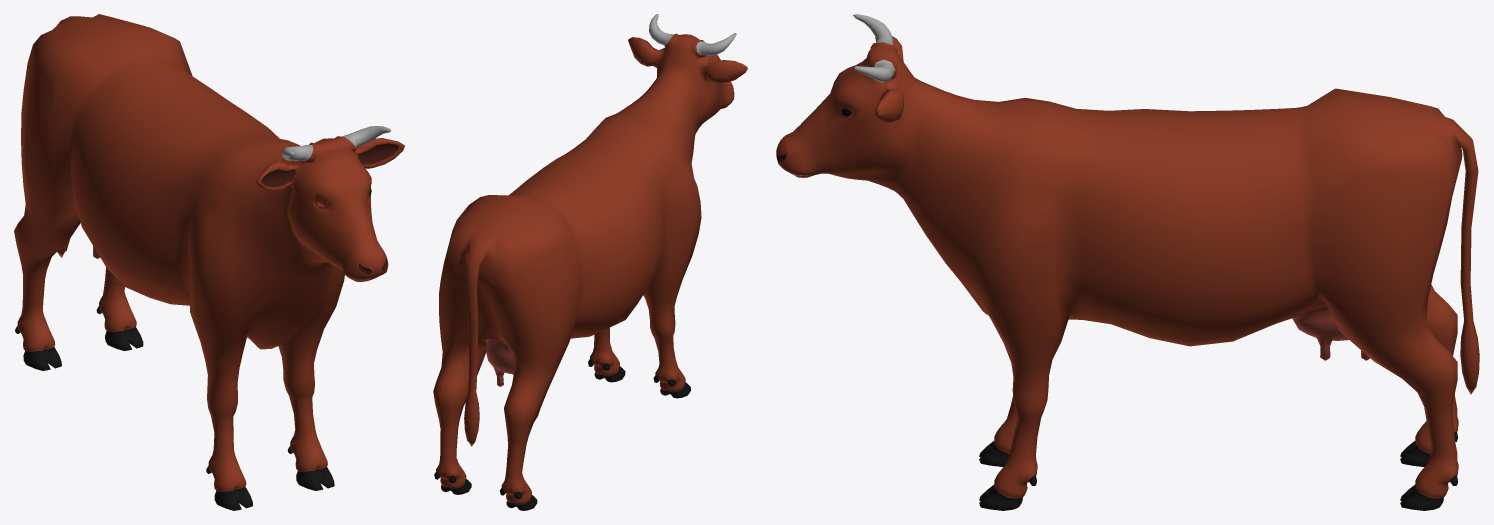
File: cow.obj
The picture shows the model from 3 angles, left to right: view 1: azimuth 30°, elevation 25°; view 2: azimuth 150°, elevation 25°; view 3: azimuth 270°, elevation 25°; orthographic projection. The views are drawn at different scales.
Parts seen in each view (by area): view 1: cow; view 2: cow; view 3: cow.
Boxes of the visible parts, bbox=[...] form: cow: bbox=[14, 14, 404, 510]; cow: bbox=[433, 14, 747, 510]; cow: bbox=[776, 14, 1479, 510].
Size of the model in its own units: 0.677 by 1.53 by 2.22.
